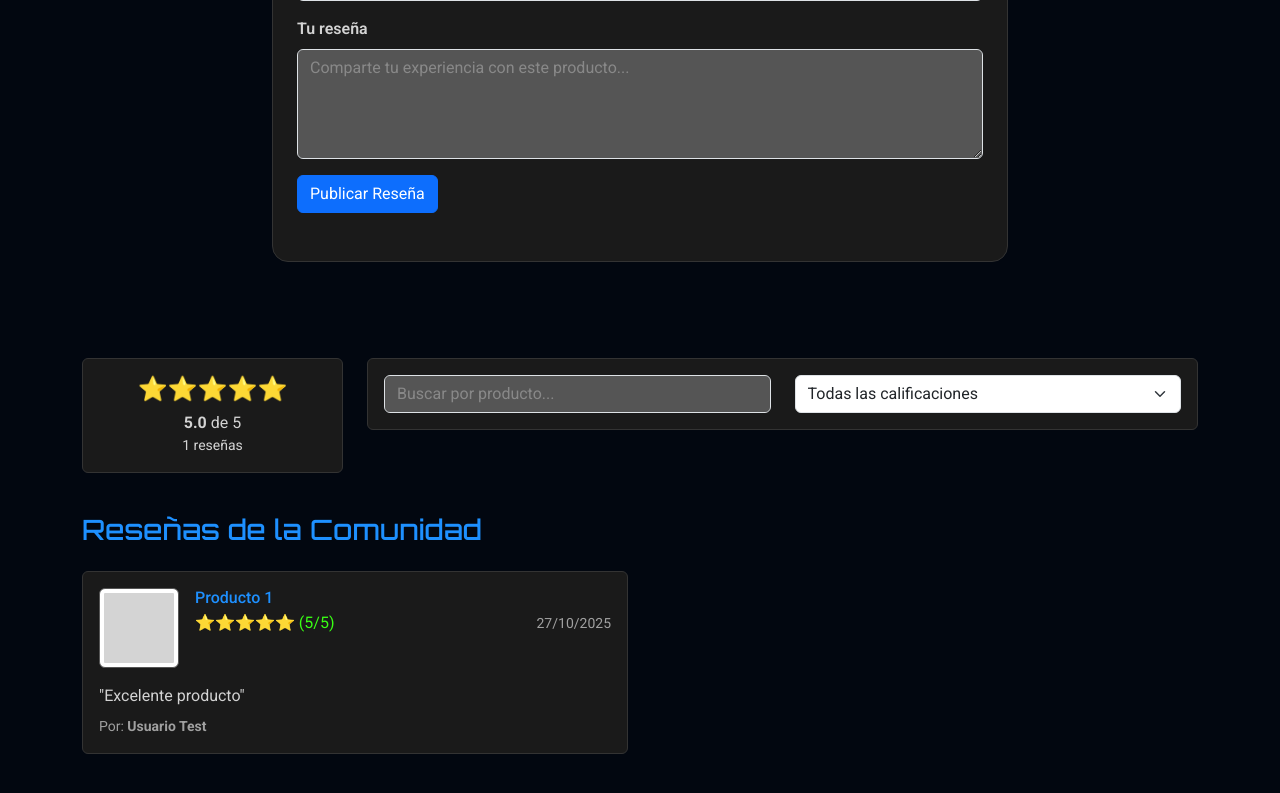
Scenario: Reviews Page › debe mostrar un mensaje si no hay reseñas que coincidan con los filtros
This screenshot has width=1280, height=793.
(page scrolled)
Type "Producto Inexistente" into the field with placeholder "Buscar por producto..." at coordinates (577, 394), box [384, 375, 770, 413]
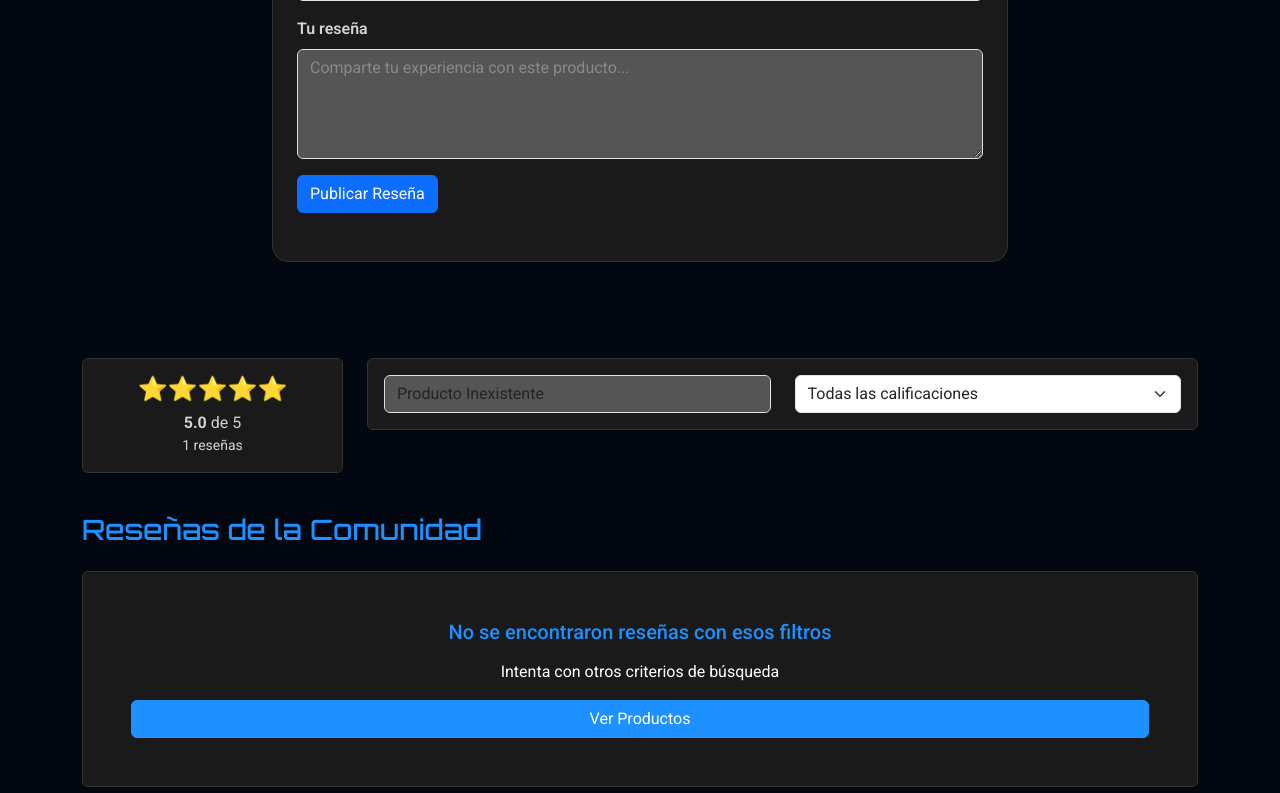
Check: the heading "No se encontraron reseñas con esos filtros" is shown, box [449, 620, 832, 644]
